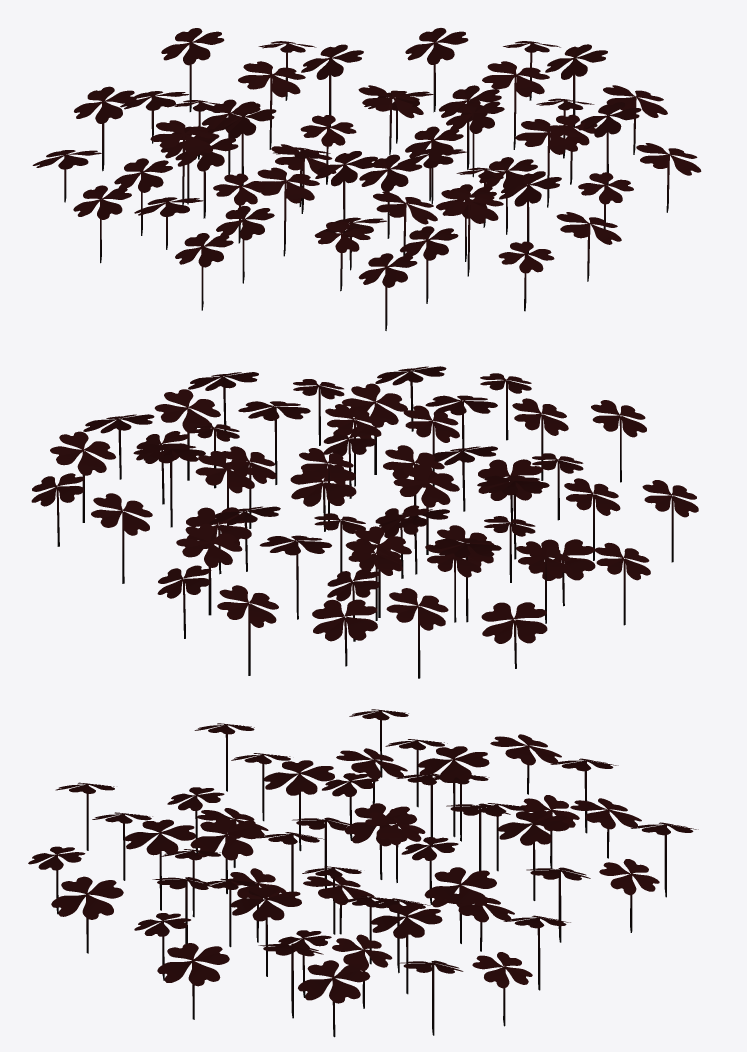
Rendered from Green river plants.fbx.
3 views of the same model, one above another, from view 1: azimuth 30°, elevation 25°; view 2: azimuth 150°, elevation 25°; view 3: azimuth 270°, elevation 25° (orthographic). The views are drawn at different scales.
Parts seen in each view (by area): view 1: Small River Plants; view 2: Small River Plants; view 3: Small River Plants.
Boxes of the visible parts, x1,y1,x2,y2 form: Small River Plants: (32, 28, 701, 330); Small River Plants: (31, 366, 698, 678); Small River Plants: (28, 709, 698, 1037).
Size of the model in its own units: 163 by 20.64 by 157.
